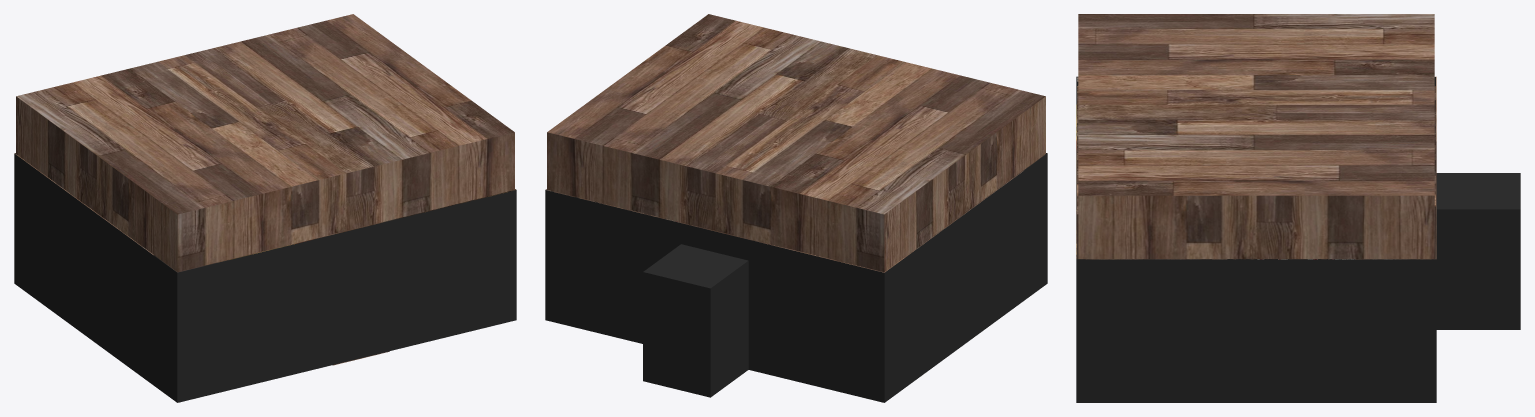
File: gramshouse.fbx
The picture shows the model from 3 angles, left to right: view 1: azimuth 30°, elevation 25°; view 2: azimuth 150°, elevation 25°; view 3: azimuth 270°, elevation 25°; orthographic projection. The views are drawn at different scales.
Visible parts, largest first — view 1: House; view 2: House; view 3: House.
Part boxes in pixels (x1,y1,x2,y2): House: (14, 14, 516, 402); House: (545, 14, 1047, 402); House: (1076, 14, 1520, 402).
Size of the model in its own units: 600 by 318 by 617.
Materials: 1 (1 with a texture image).
